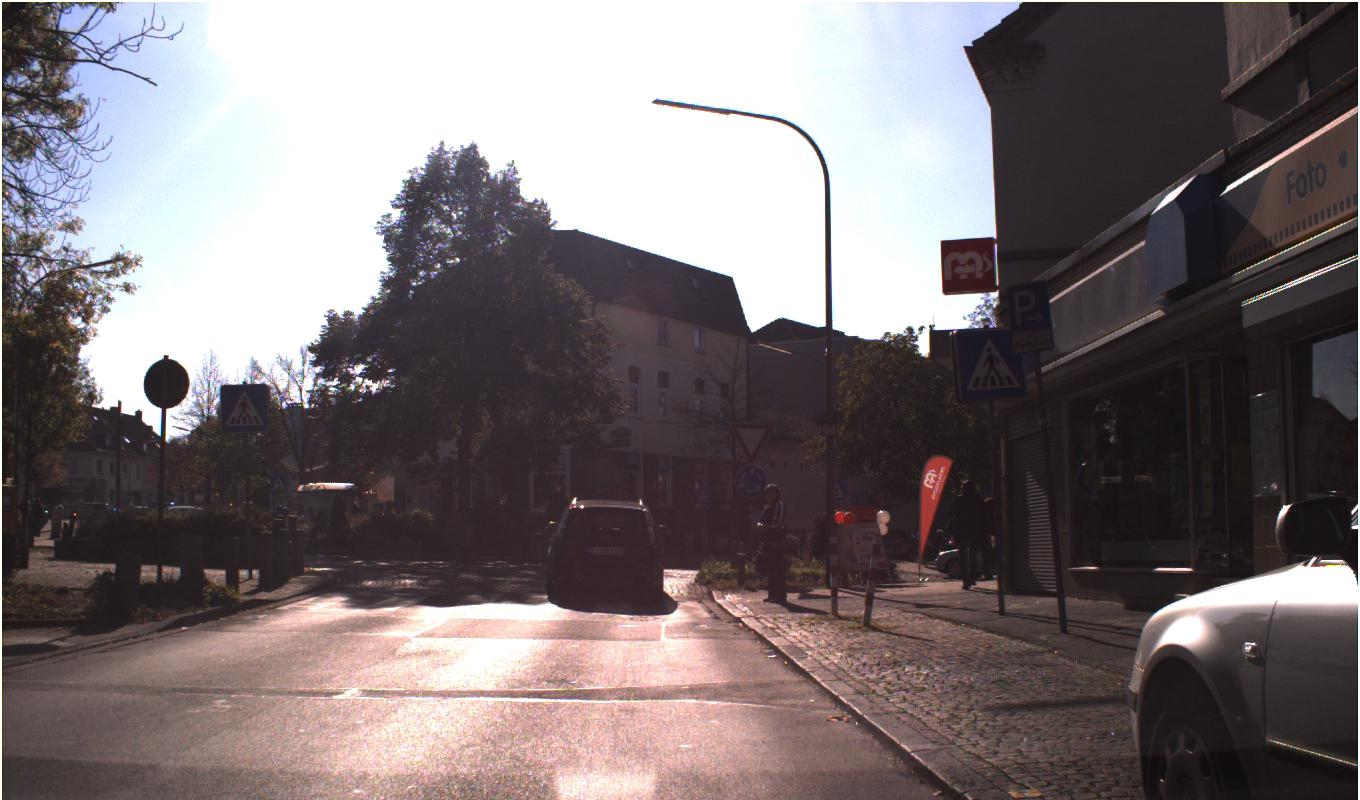mandatory: (734, 463, 767, 497)
sign: (731, 422, 772, 459)
